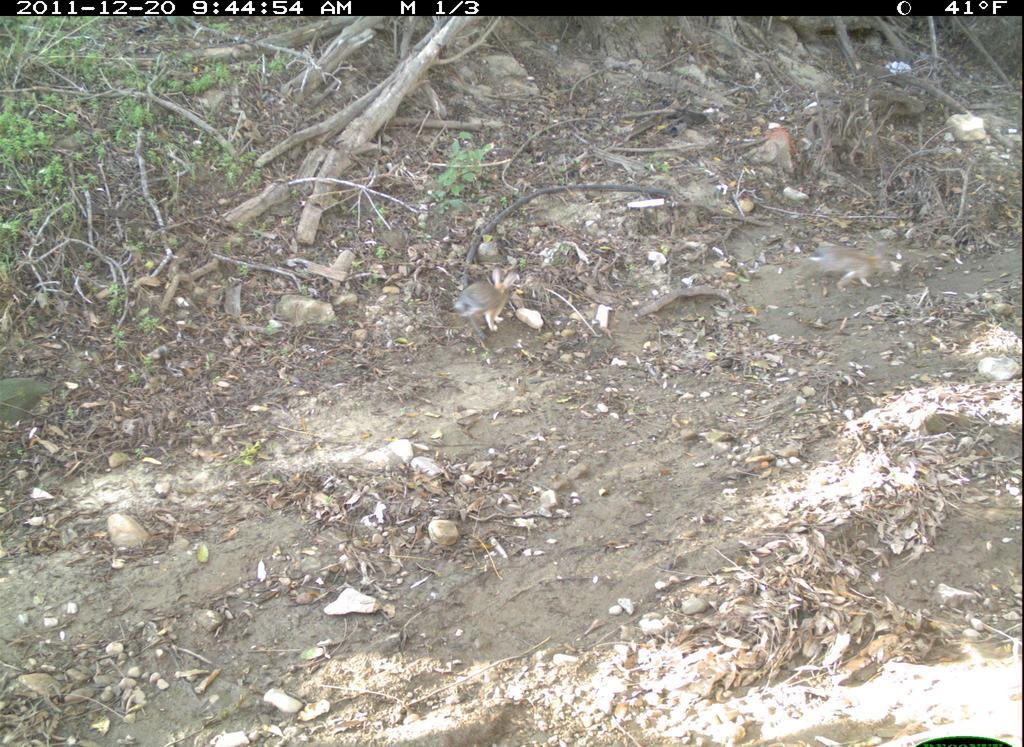rabbit: (449, 262, 528, 344)
